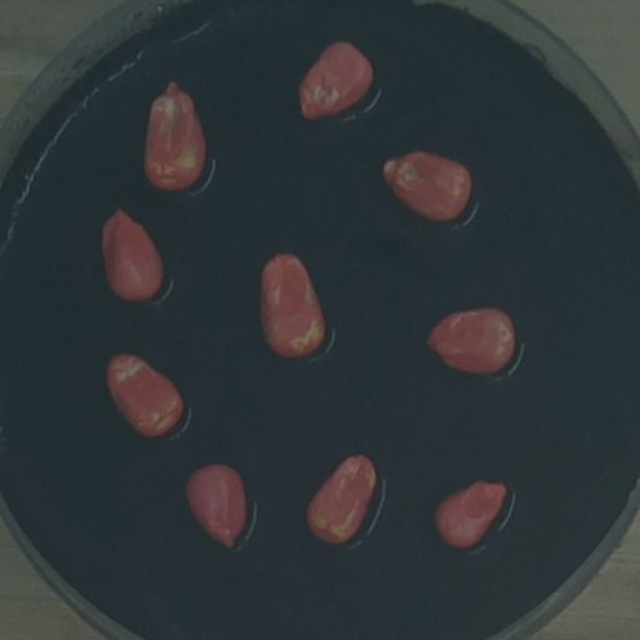Zea mays: (250, 244, 334, 366), (98, 341, 194, 445), (296, 442, 386, 552), (137, 68, 213, 197), (373, 140, 478, 229), (289, 32, 381, 127), (93, 197, 171, 308), (419, 299, 521, 381), (426, 469, 517, 556), (176, 455, 251, 556)
